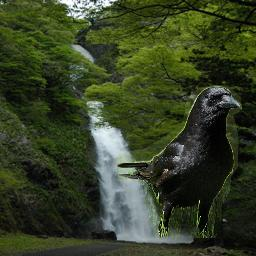Crow: (117, 85, 242, 238)
